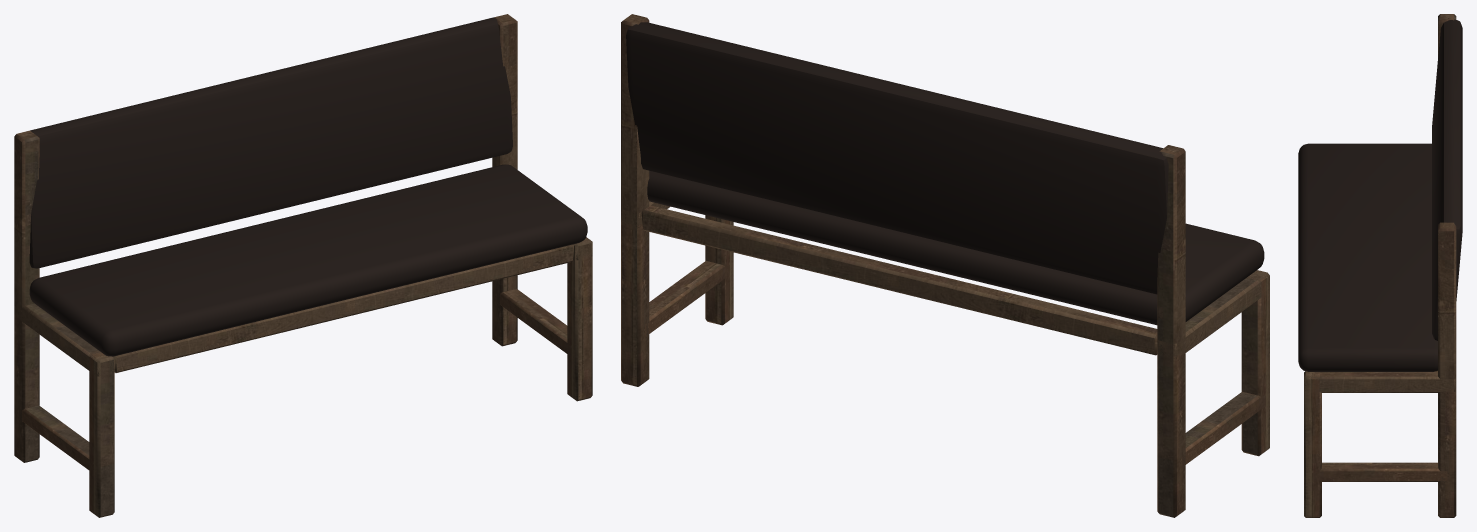
The model's file is ink-bench.glb.
3 renders of one model, left to right at view 1: azimuth 30°, elevation 25°; view 2: azimuth 150°, elevation 25°; view 3: azimuth 270°, elevation 25°, orthographic. The views are drawn at different scales.
Parts seen in each view (by area): view 1: bench; view 2: bench; view 3: bench.
Boxes of the visible parts, x1,y1,x2,y2 form: bench: (14,14,592,517); bench: (621,14,1269,517); bench: (1298,14,1462,517).
Size of the model in its own units: 1.41 by 0.88 by 0.4524.
Materials: 2 (1 with a texture image).
